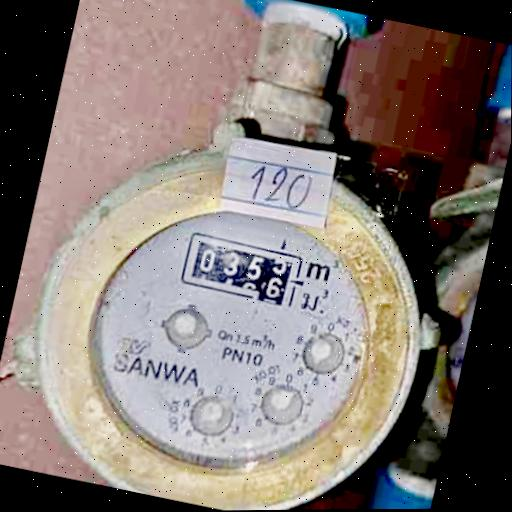0: (190, 240, 223, 282)
3: (213, 246, 245, 287)
5: (235, 251, 268, 292)
6: (256, 256, 292, 305)
border_water_meter_number: (177, 228, 304, 310)
